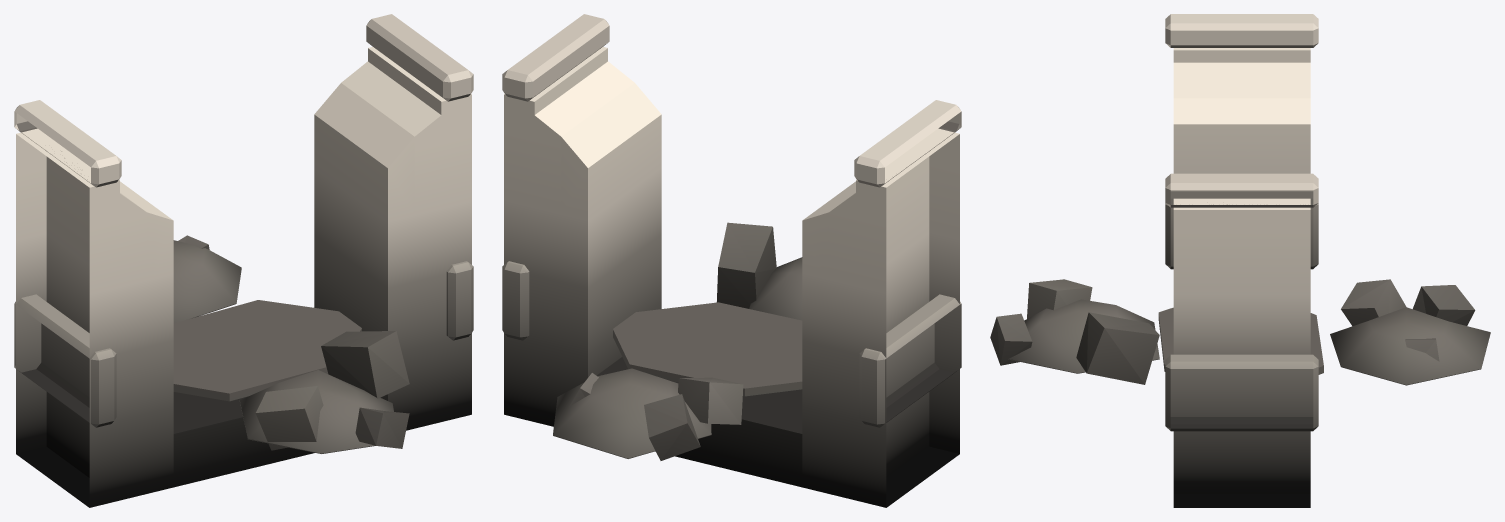
Rendered from SM_VKI_Wall_Dwarf_Breach_150_Cut.fbx.
The picture shows the model from 3 angles, left to right: view 1: azimuth 30°, elevation 25°; view 2: azimuth 150°, elevation 25°; view 3: azimuth 270°, elevation 25°; orthographic projection. The views are drawn at different scales.
Visible parts, largest first — view 1: SM_VKI_Wall_Dwarf_Breach_150_Cut.001; view 2: SM_VKI_Wall_Dwarf_Breach_150_Cut.001; view 3: SM_VKI_Wall_Dwarf_Breach_150_Cut.001.
Boxes of the visible parts, x1,y1,x2,y2 form: SM_VKI_Wall_Dwarf_Breach_150_Cut.001: (14,14,473,507); SM_VKI_Wall_Dwarf_Breach_150_Cut.001: (502,14,961,507); SM_VKI_Wall_Dwarf_Breach_150_Cut.001: (990,14,1490,507).
Size of the model in its own units: 1.5 by 1.3 by 1.83.
